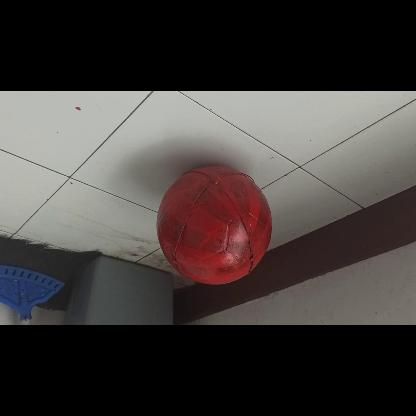red_ball: (154, 163, 274, 283)
